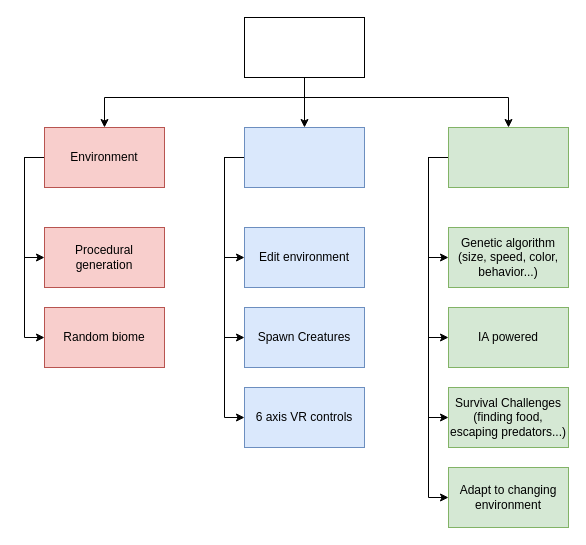
Image size: 586x545. Some labels were removed from this diagram. The centre of each missing label's shape, as x and y in pixels:
"Creatures" belongs at (508,157).
"Player" belongs at (304,157).
"Untilted God Game" belongs at (304,47).
